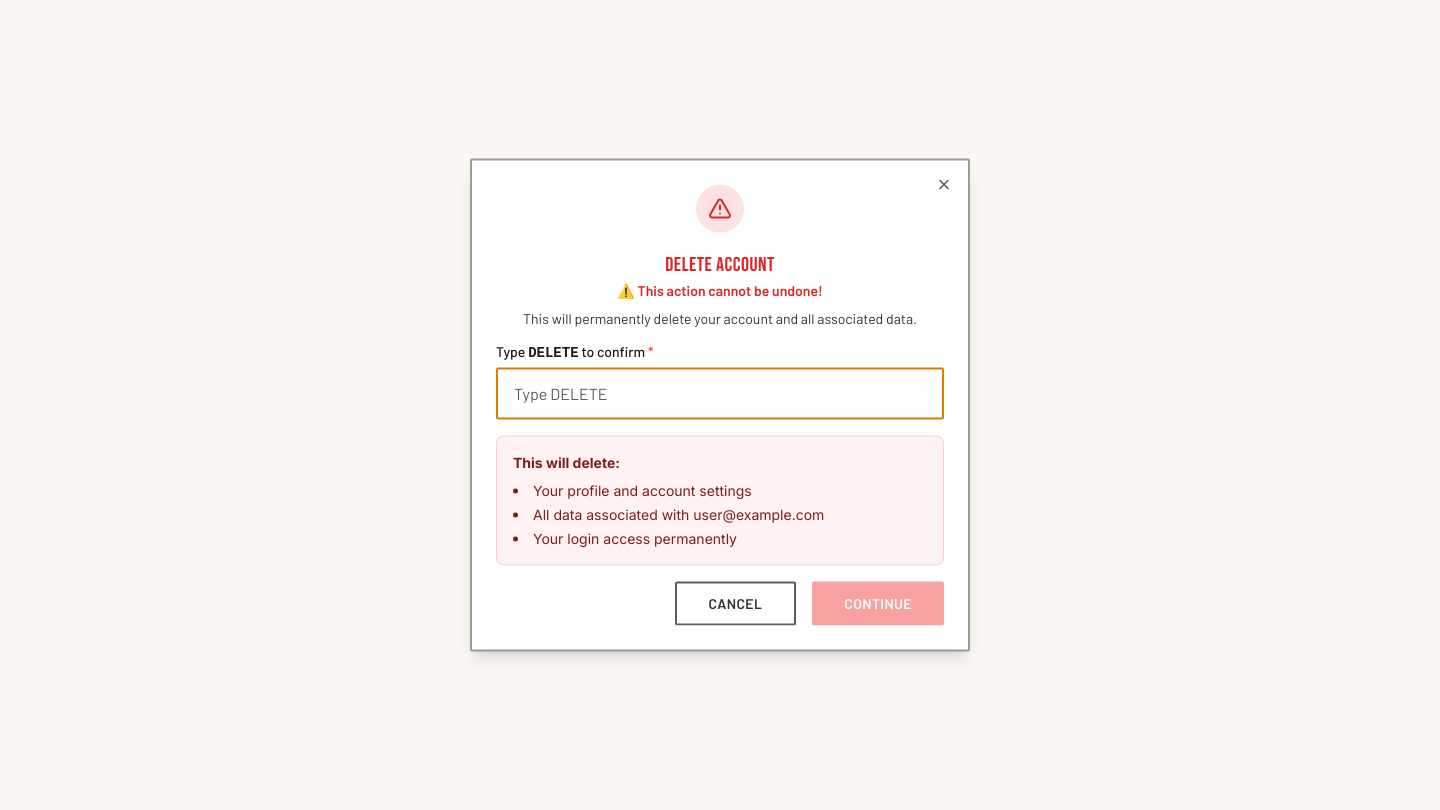
Scenario: DeleteAccountModal › Two-Step Confirmation Flow › should enable Continue button when DELETE is typed
Expected: the button "Continue" is disabled, [812,582,944,626]
In the field labelled "Type DELETE to confirm *": (720, 394) [496,368,944,420], type "DELETE"
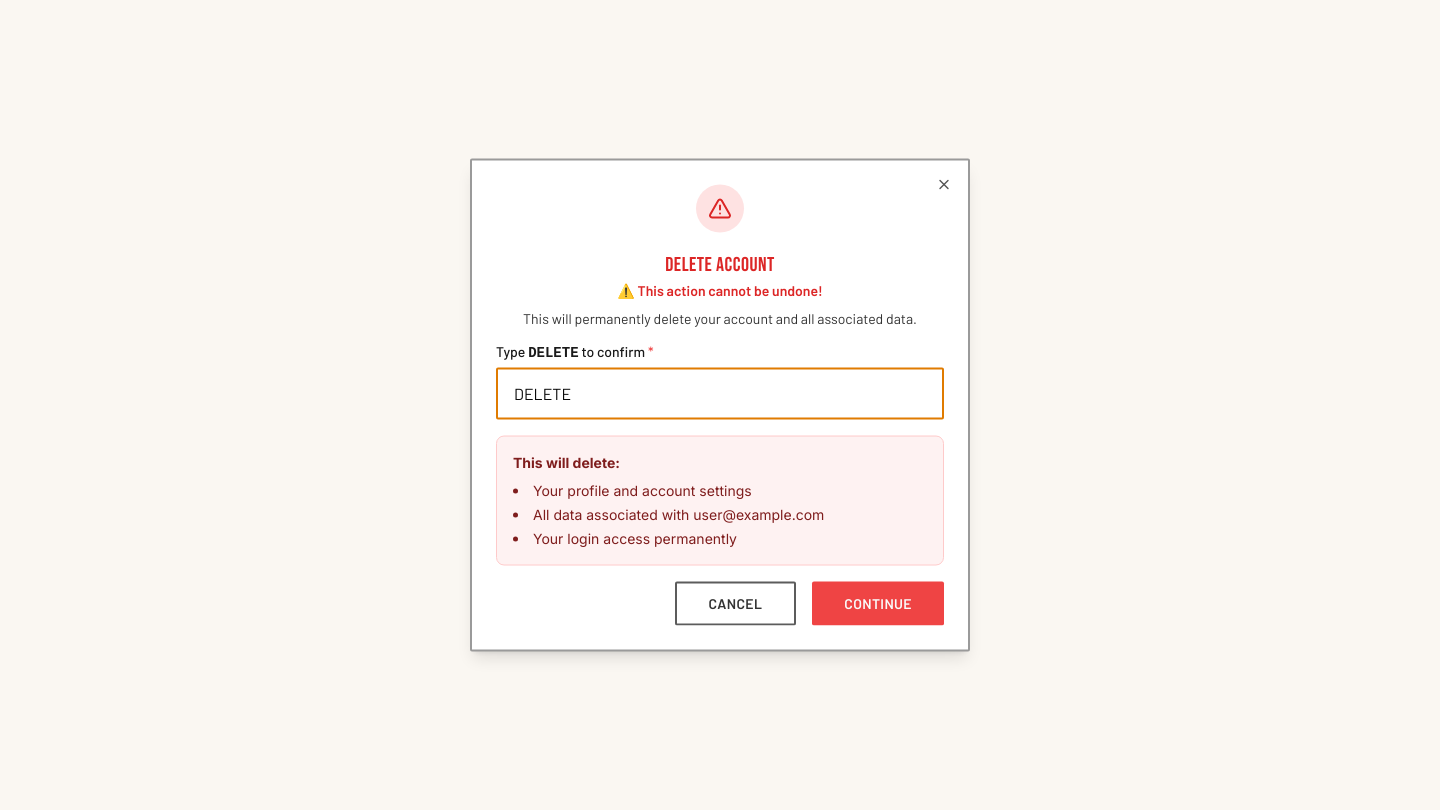
Expected: the button "Continue" is enabled, [812,582,944,626]
